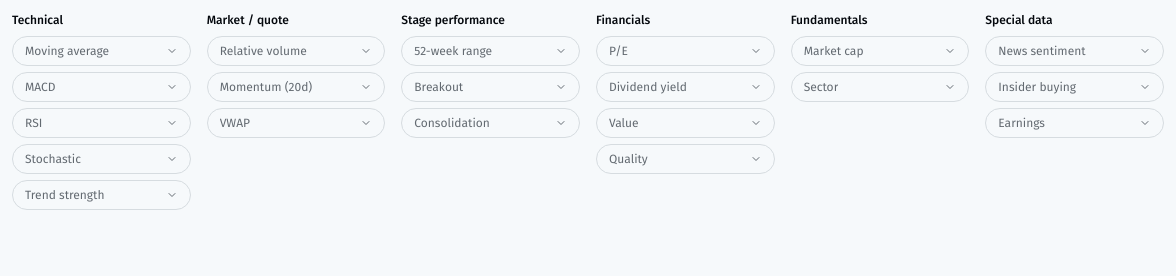
ConditionBuilder › does not count fundamental-only selections (they filter, not scan)
Click the button "Market cap" at x=880, y=51, box [791,36,969,66]
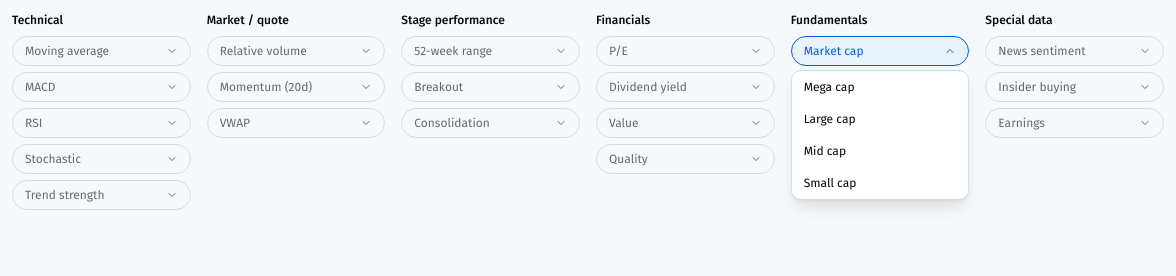
Click the button "Small cap" at x=880, y=183, box [792,167,968,199]
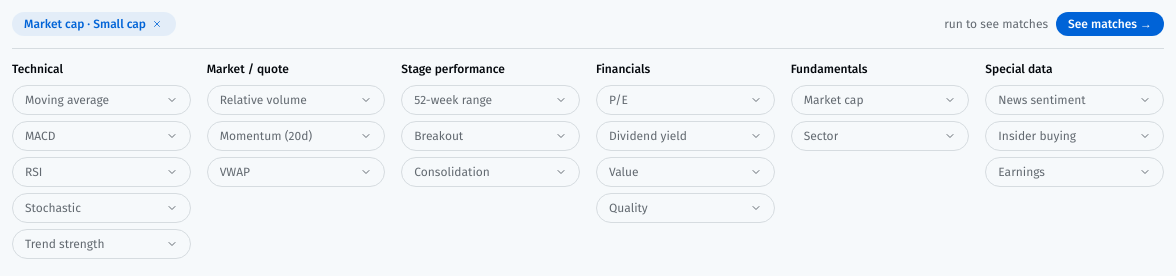
Check: the element with test id "condition-chip" is shown, box [12,12,176,36]
Check: the text with test id "condition-count" reads "run to see matches", box [944,17,1048,31]
